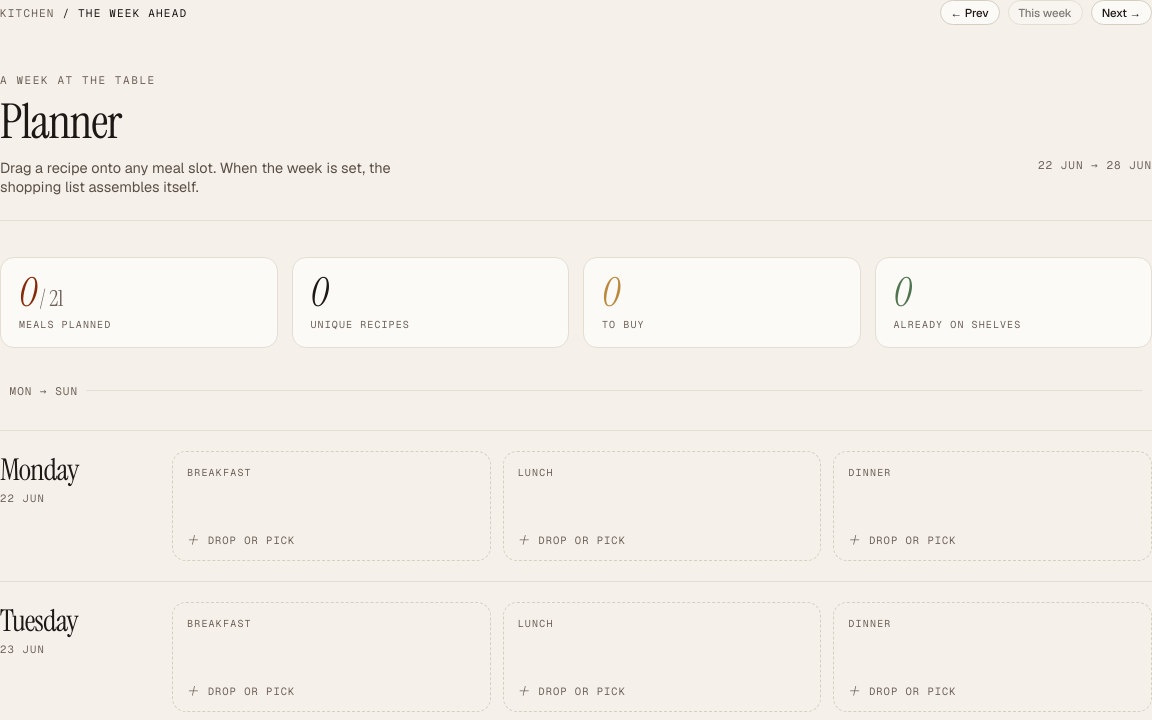
PlannerScreen – recipe picker modal › closing the picker with ✕ dismisses it
This screenshot has width=1152, height=720.
Click the 1st button "+ drop or pick" at (251, 540), box top-left (187, 533), bottom-right (476, 548)
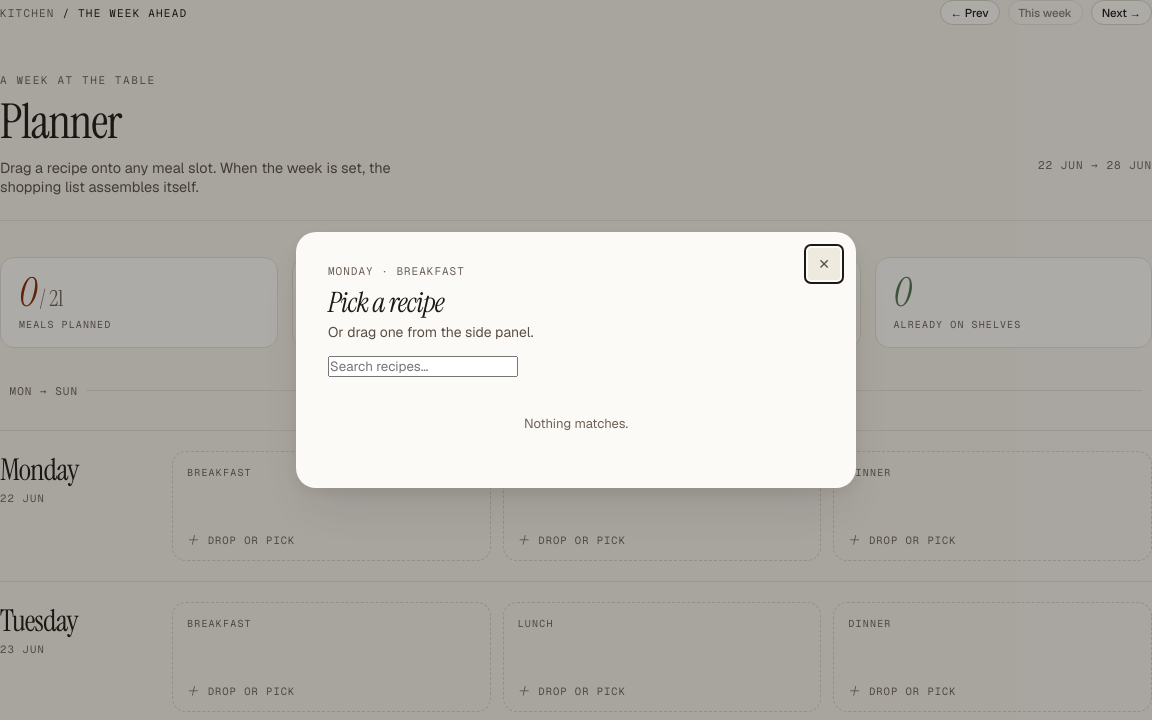
Click the button "✕" at (824, 264), box top-left (808, 248), bottom-right (840, 280)
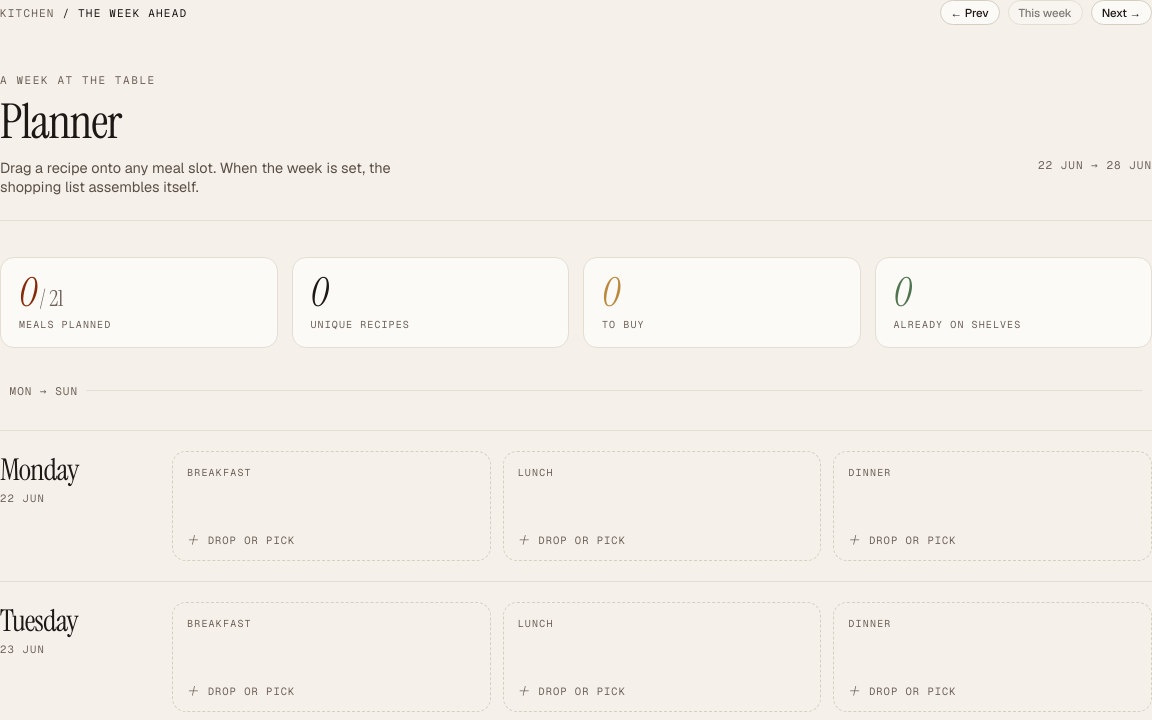
Expected: the dialog is gone
